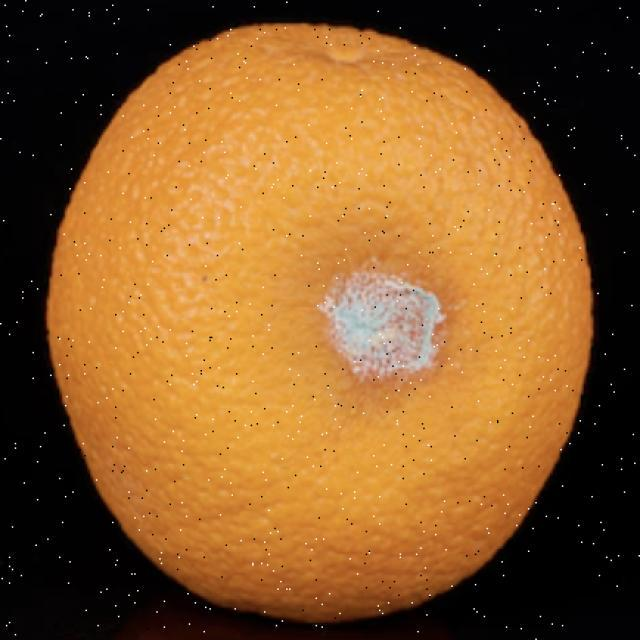sedikit-busuk: (47, 24, 591, 621), (320, 272, 443, 377)
